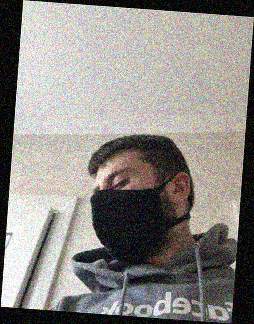with_mask: (90, 161, 161, 264)
